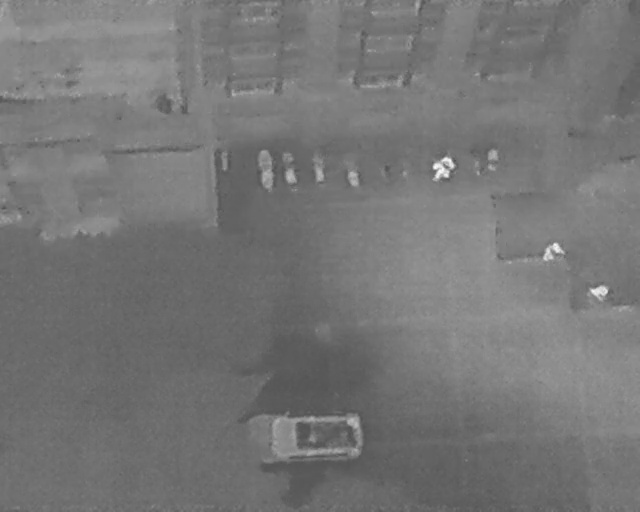Bicycle: (254, 146, 278, 195), (278, 147, 300, 188), (308, 149, 330, 187), (342, 153, 364, 191), (471, 147, 486, 177), (378, 159, 395, 184), (486, 146, 500, 175), (400, 160, 410, 179)
Car: (238, 408, 367, 465)
Person: (539, 236, 569, 268), (428, 154, 456, 185), (586, 278, 614, 305)
